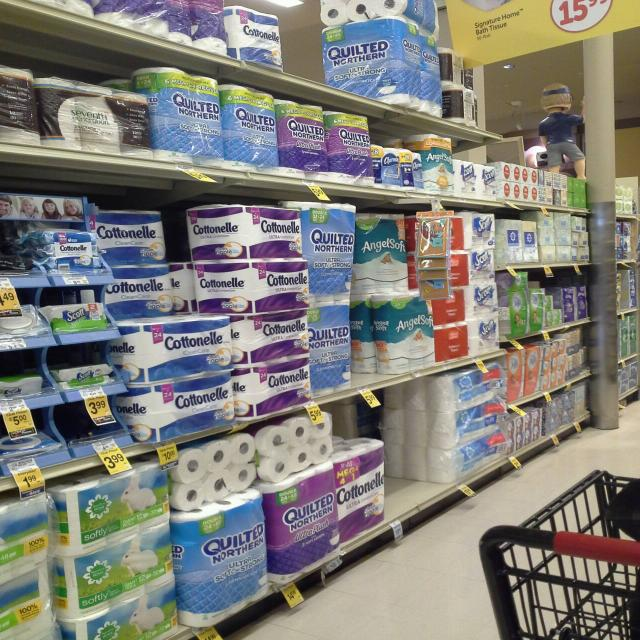empty: (381, 377, 441, 539), (272, 3, 340, 86)
